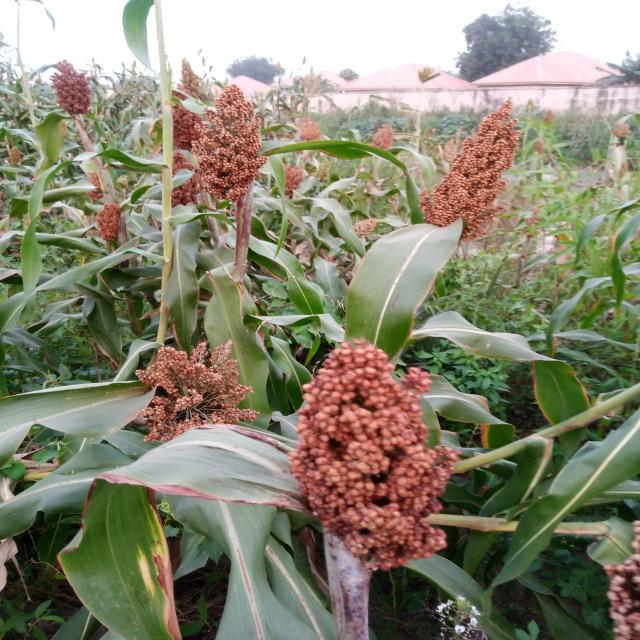RipeSorghum: (271, 320, 519, 588), (137, 65, 305, 209), (415, 82, 530, 250)
